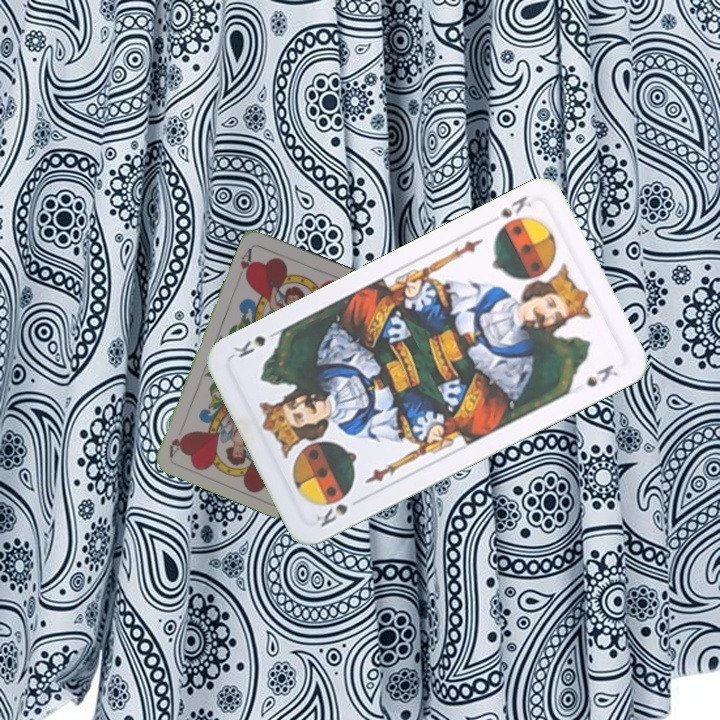HA: (234, 244, 256, 283)
SK: (311, 493, 366, 530), (495, 191, 534, 220)
